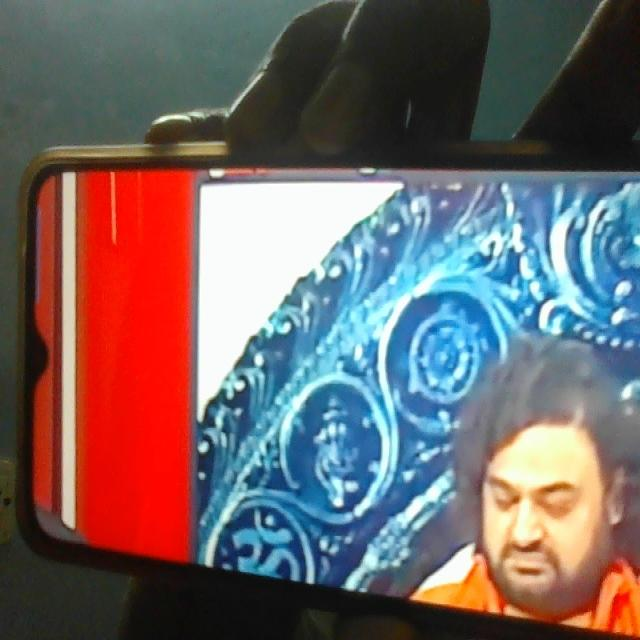fake: (480, 359, 622, 628)
